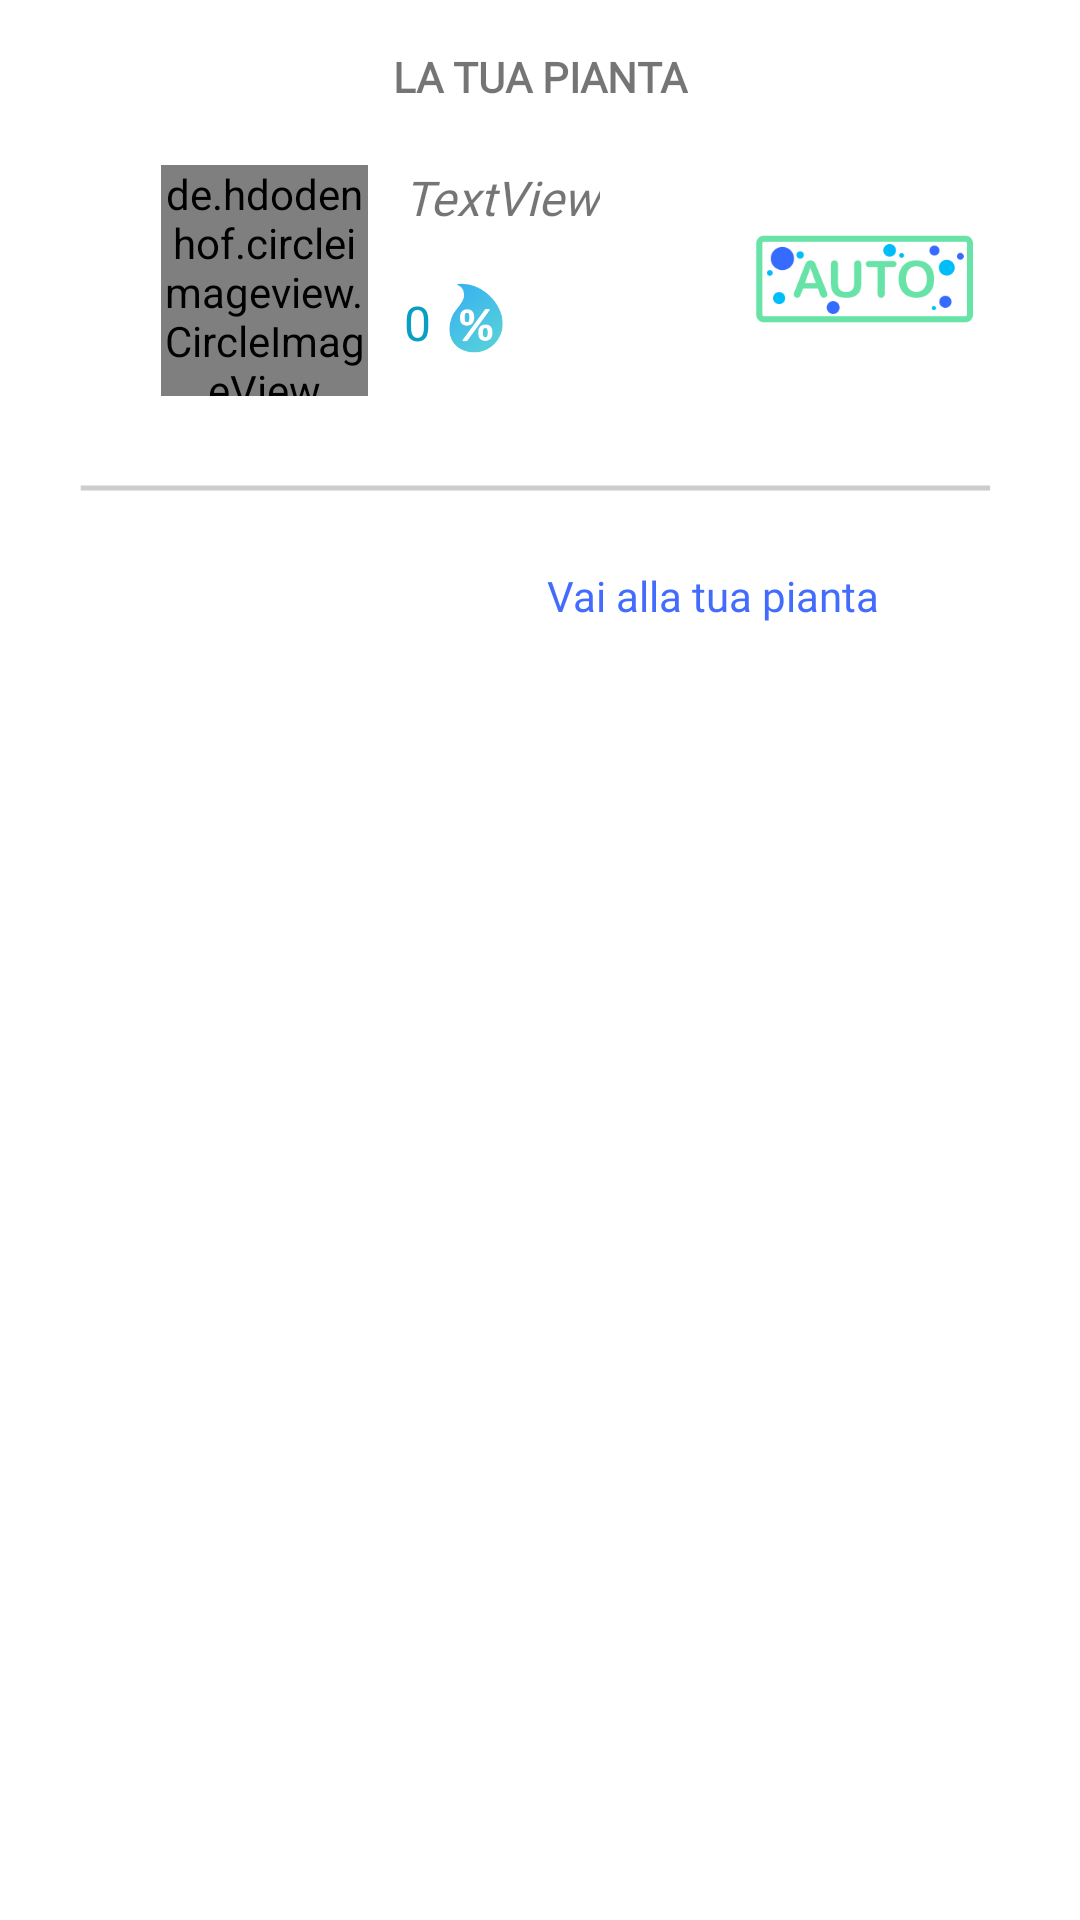

Icons on this 1080 x 1920 Android screen, each with its box as (x1, y1, x2, y2):
indicatore umidita perc: (406, 283, 503, 353)
